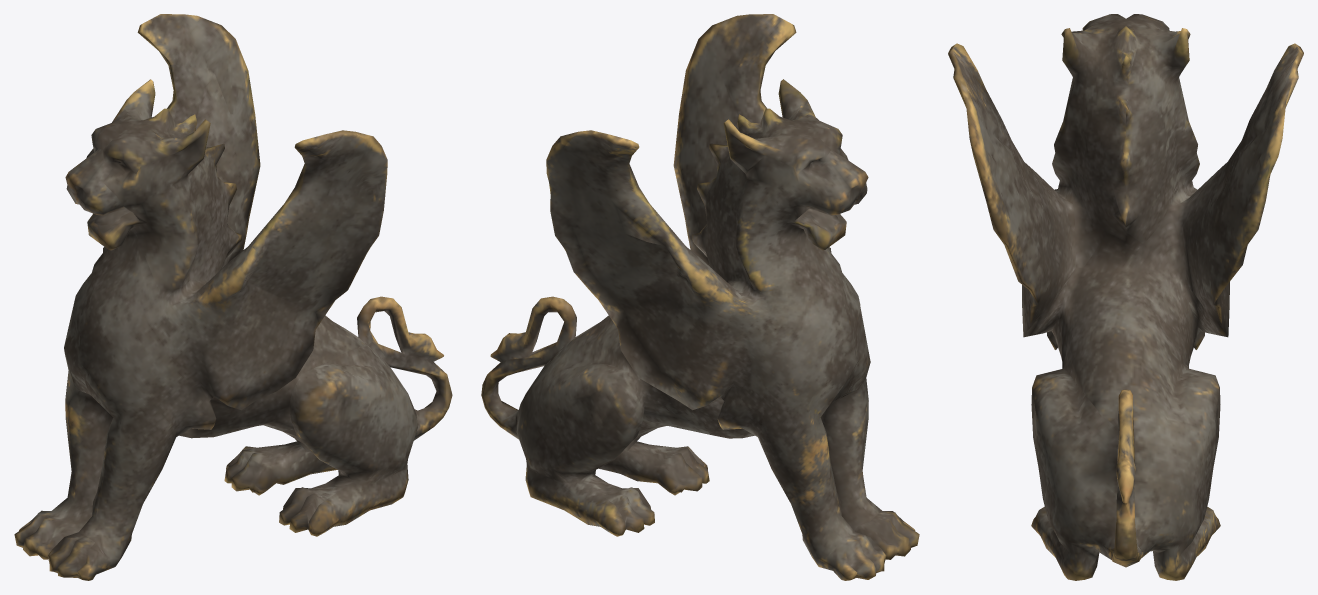
Rendered from SM_WingedLion.fbx.
The picture shows the model from 3 angles, left to right: view 1: azimuth 30°, elevation 25°; view 2: azimuth 150°, elevation 25°; view 3: azimuth 270°, elevation 25°; orthographic projection. The views are drawn at different scales.
Parts seen in each view (by area): view 1: SM_WingedLion_LOD0; view 2: SM_WingedLion_LOD0; view 3: SM_WingedLion_LOD0.
Boxes of the visible parts, <box> form: SM_WingedLion_LOD0: <box>14,14,452,580</box>; SM_WingedLion_LOD0: <box>481,14,919,580</box>; SM_WingedLion_LOD0: <box>948,14,1303,580</box>.
Size of the model in its own units: 90.63 by 64.18 by 92.91.
Materials: 1 (1 with a texture image).
